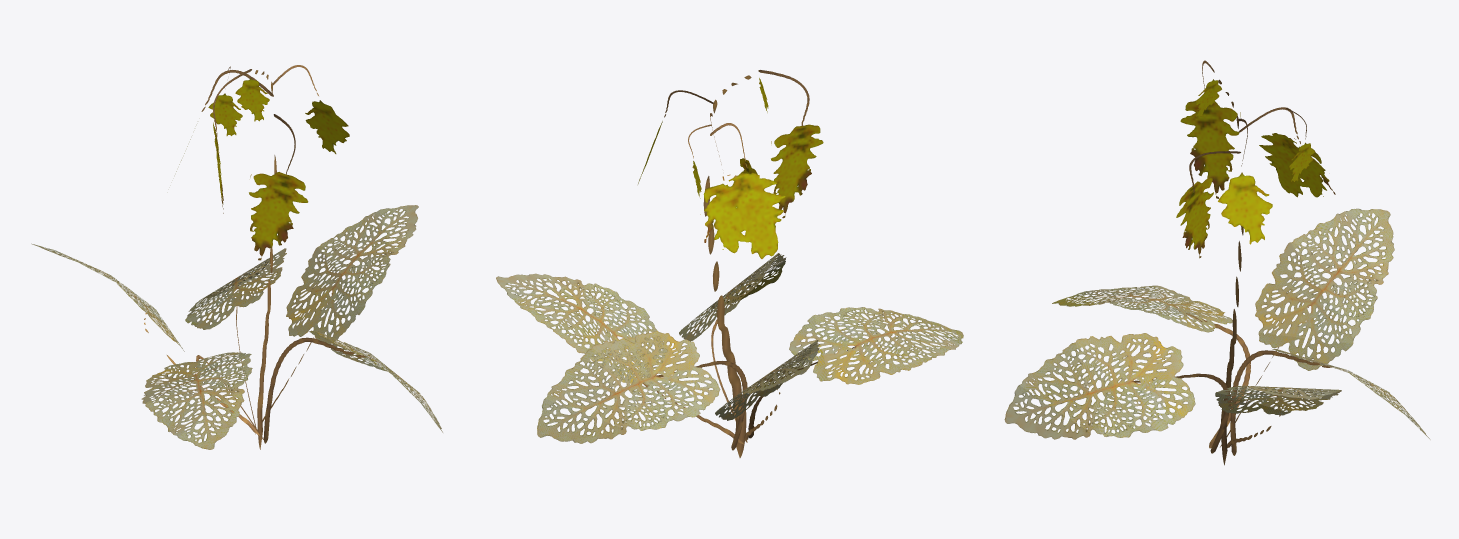
File: Spin Reef A4.fbx
3 renders of one model, left to right at view 1: azimuth 30°, elevation 25°; view 2: azimuth 150°, elevation 25°; view 3: azimuth 270°, elevation 25°, orthographic.
Parts seen in each view (by area): view 1: Spin Reef A4; view 2: Spin Reef A4; view 3: Spin Reef A4.
Boxes of the visible parts, x1,y1,x2,y2 form: Spin Reef A4: [31, 65, 442, 449]; Spin Reef A4: [496, 70, 963, 457]; Spin Reef A4: [1004, 60, 1430, 465].
Size of the model in its own units: 159 by 208 by 167.
